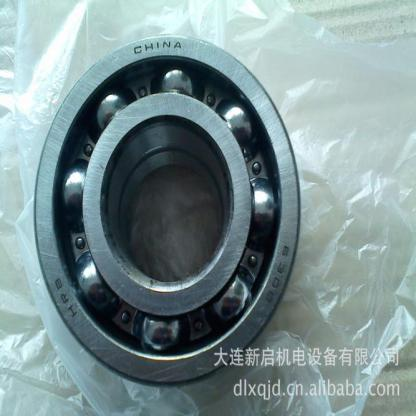FOD: (31, 31, 307, 394)
